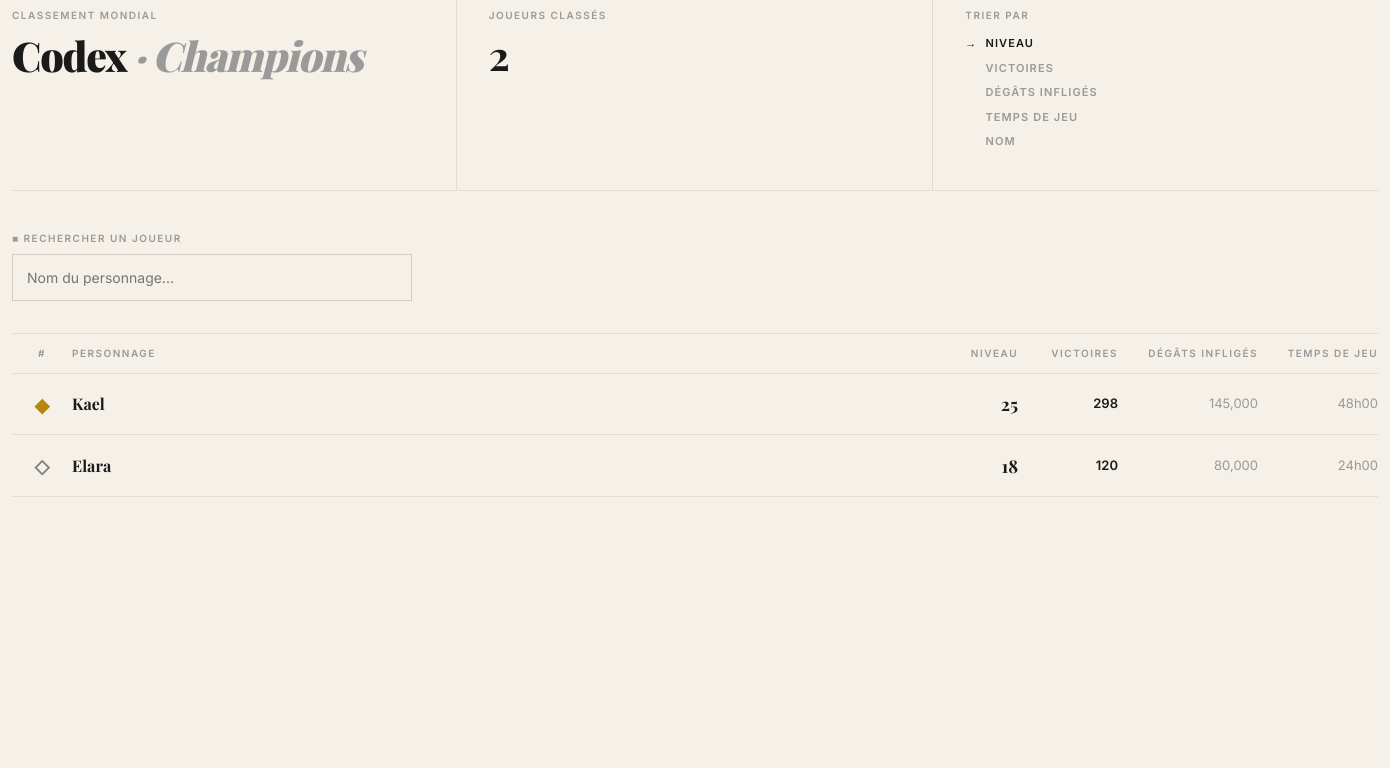
Test: LeaderboardView › affiche les résultats de recherche
The width and height of the screenshot is (1390, 768).
Step 1. Type "Ka" into the field with placeholder "Nom du personnage..." → {"x": 212, "y": 277}, box [12,254,412,300]
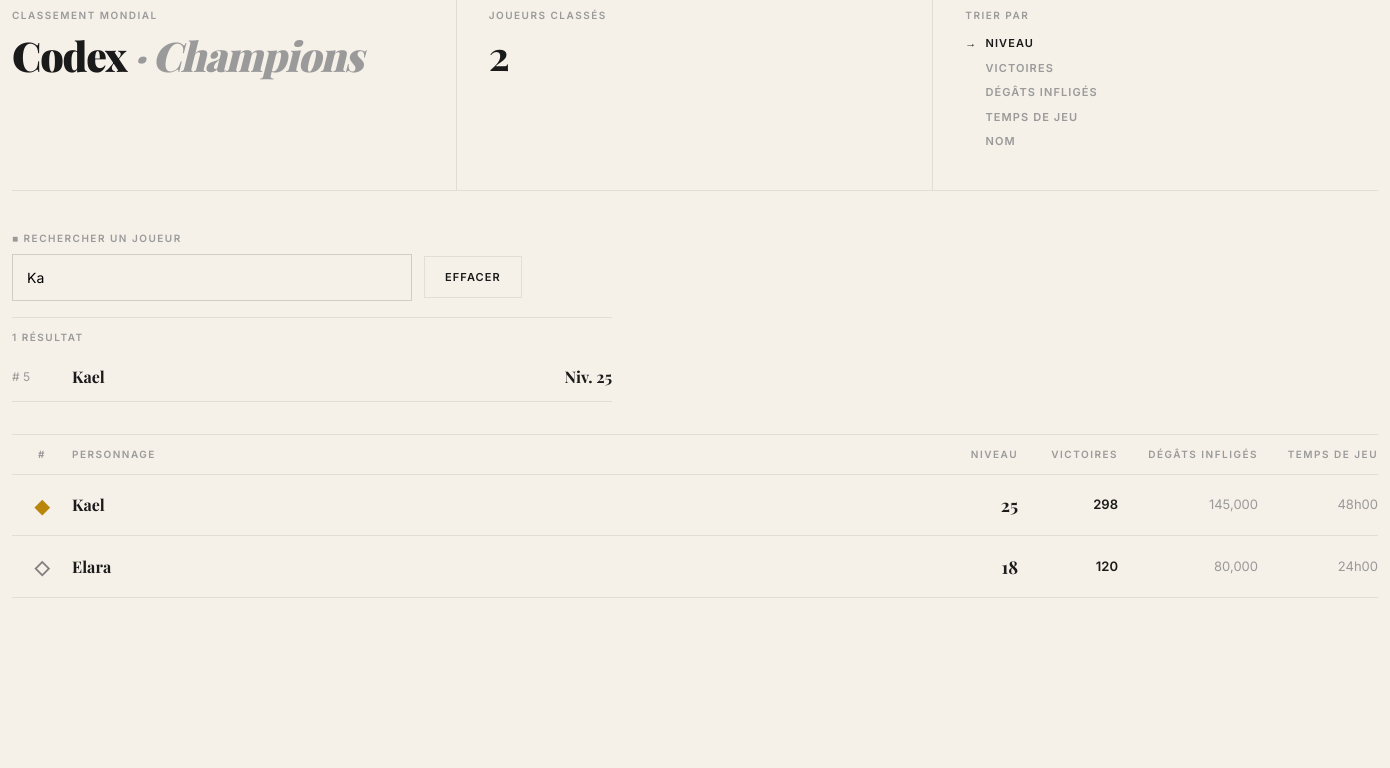
Expected: the text "Kael" is shown, [72,366,105,386]
Expected: the text "1 résultat" is shown, [12,330,84,342]
